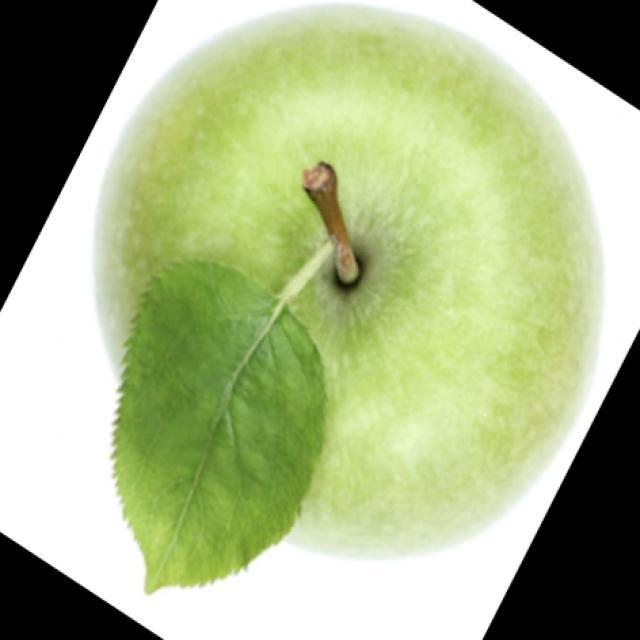Fresh Apple: (110, 25, 585, 528)
